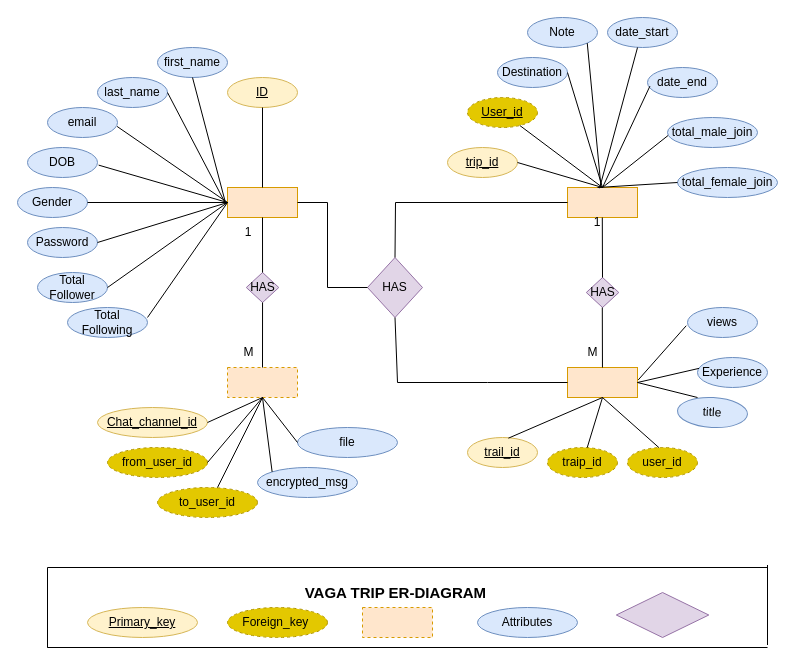
The diagram is 795 pixels wide and 666 high, and some of its shapes have lost their labels. Each missing label, with the centre of its shape:
"CHAT" belongs at point 262,382.
"Entity" belongs at point 397,622.
"Relationship" belongs at point 662,615.
"TRAILS" belongs at point 602,382.
"TRIPS" belongs at point 602,202.
"USERS" belongs at point 262,202.
